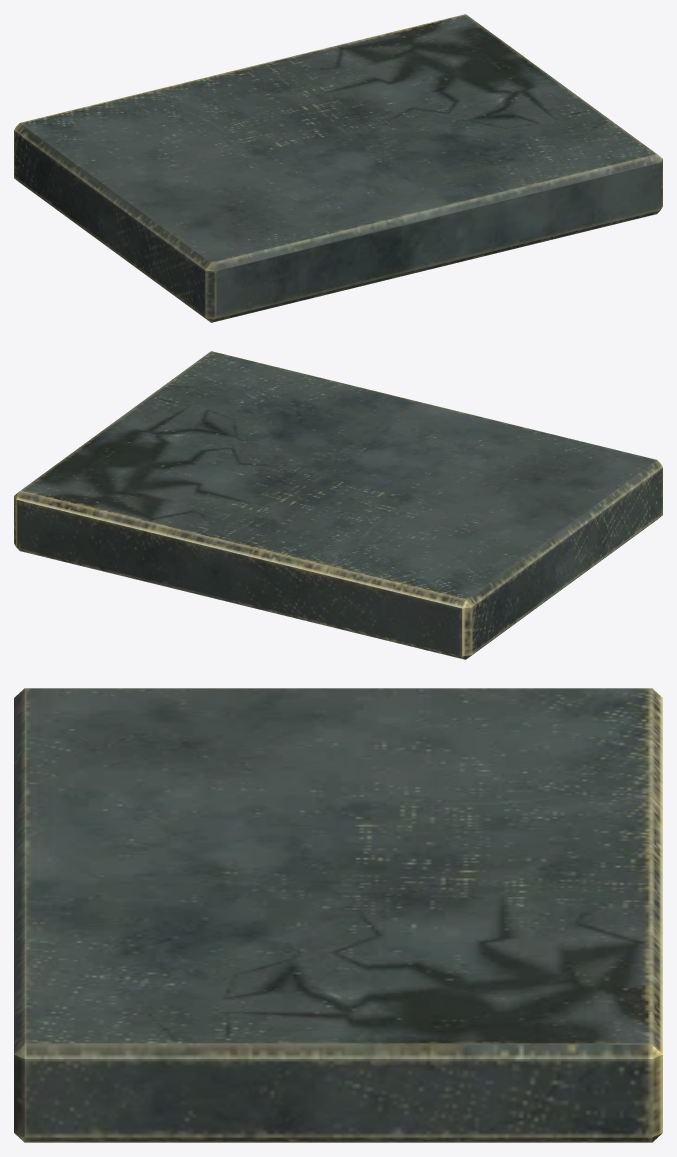
File: step-02.glb
The picture shows the model from 3 angles, top to bottom: view 1: azimuth 30°, elevation 25°; view 2: azimuth 150°, elevation 25°; view 3: azimuth 270°, elevation 25°; orthographic projection. The views are drawn at different scales.
Parts seen in each view (by area): view 1: Step_02; view 2: Step_02; view 3: Step_02.
Boxes of the visible parts, left/top/right/bottom form: Step_02: left=14, top=14, right=662, bottom=322; Step_02: left=14, top=351, right=662, bottom=659; Step_02: left=14, top=688, right=662, bottom=1142.
Size of the model in its own units: 2 by 0.25 by 1.5.
1 material, 1 textured.
